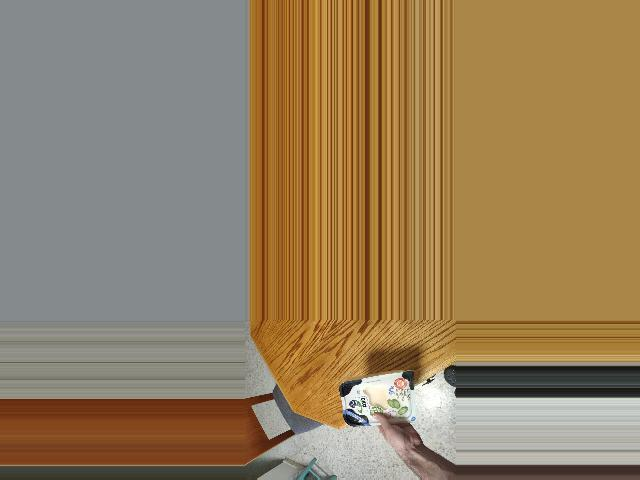cheese: (340, 371, 416, 434)
